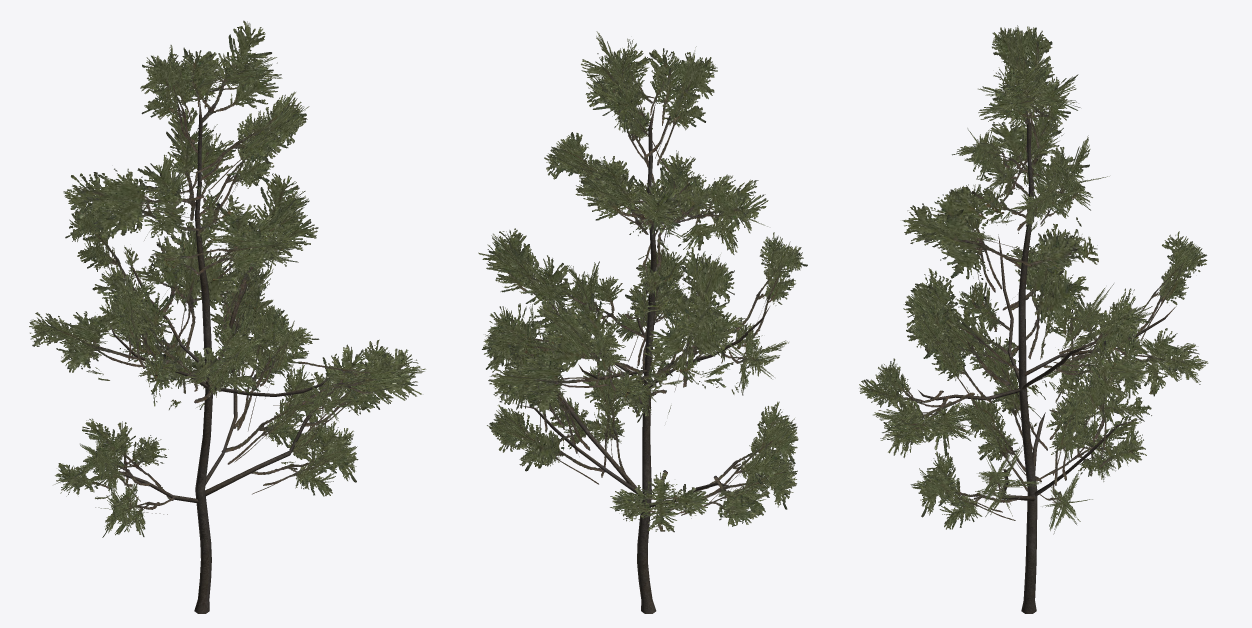
Rendered from pine-sapling-small.glb.
3 views of the same model, side by side, from view 1: azimuth 30°, elevation 25°; view 2: azimuth 150°, elevation 25°; view 3: azimuth 270°, elevation 25° (orthographic).
Visible parts, largest first — view 1: pine-needle-branches, pine-trunk; view 2: pine-needle-branches, pine-trunk; view 3: pine-needle-branches, pine-trunk.
Part boxes in pixels (x1,y1,x2,y2): pine-needle-branches: (29, 20, 425, 537); pine-trunk: (109, 99, 337, 613); pine-needle-branches: (478, 31, 807, 532); pine-trunk: (519, 103, 769, 613); pine-needle-branches: (859, 25, 1208, 534); pine-trunk: (918, 110, 1176, 613).
Size of the model in its own units: 0.8588 by 1.32 by 0.8052.
2 materials, 2 textured.
